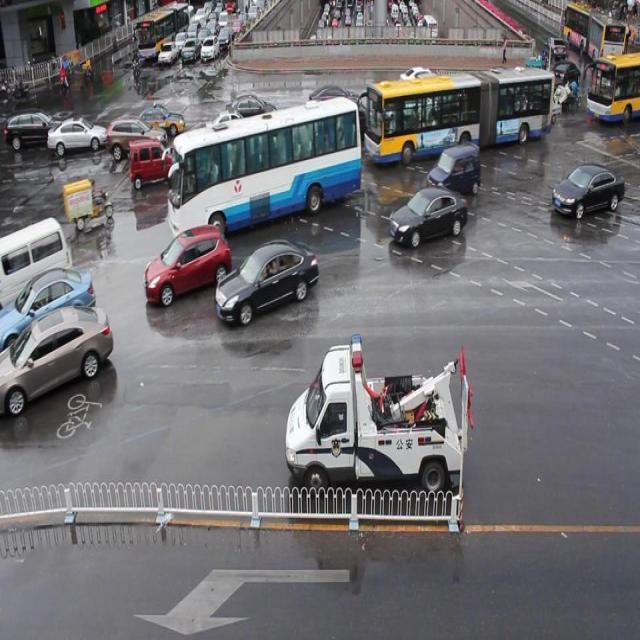BigCar: (164, 107, 367, 238)
car: (287, 330, 463, 522), (358, 67, 547, 153), (4, 325, 108, 417), (0, 217, 99, 295), (212, 255, 318, 320), (383, 178, 468, 256), (556, 159, 619, 233), (143, 242, 225, 297), (52, 114, 107, 168), (130, 141, 174, 203), (5, 117, 52, 160), (558, 52, 580, 114)
